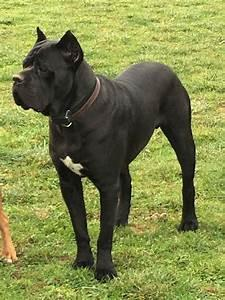dog: (11, 26, 198, 282)
